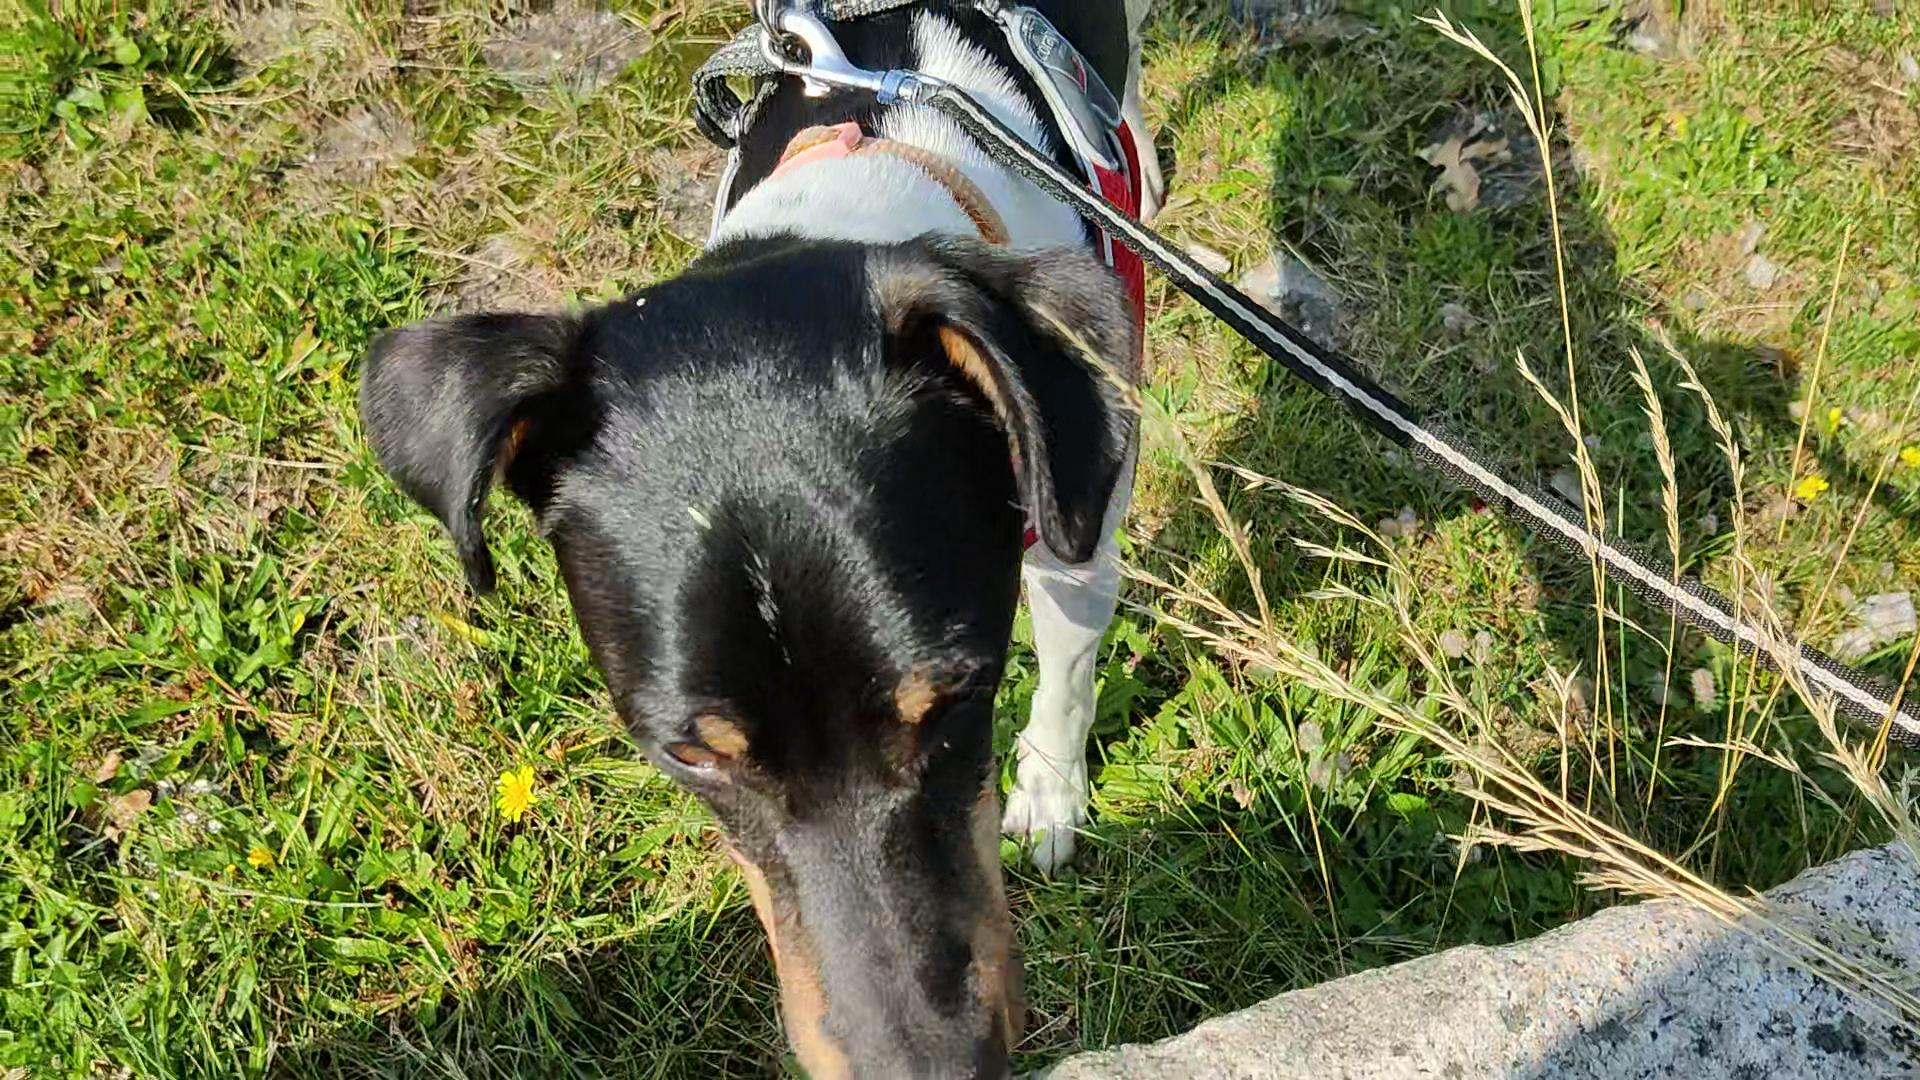Dog: (334, 0, 1164, 1079)
